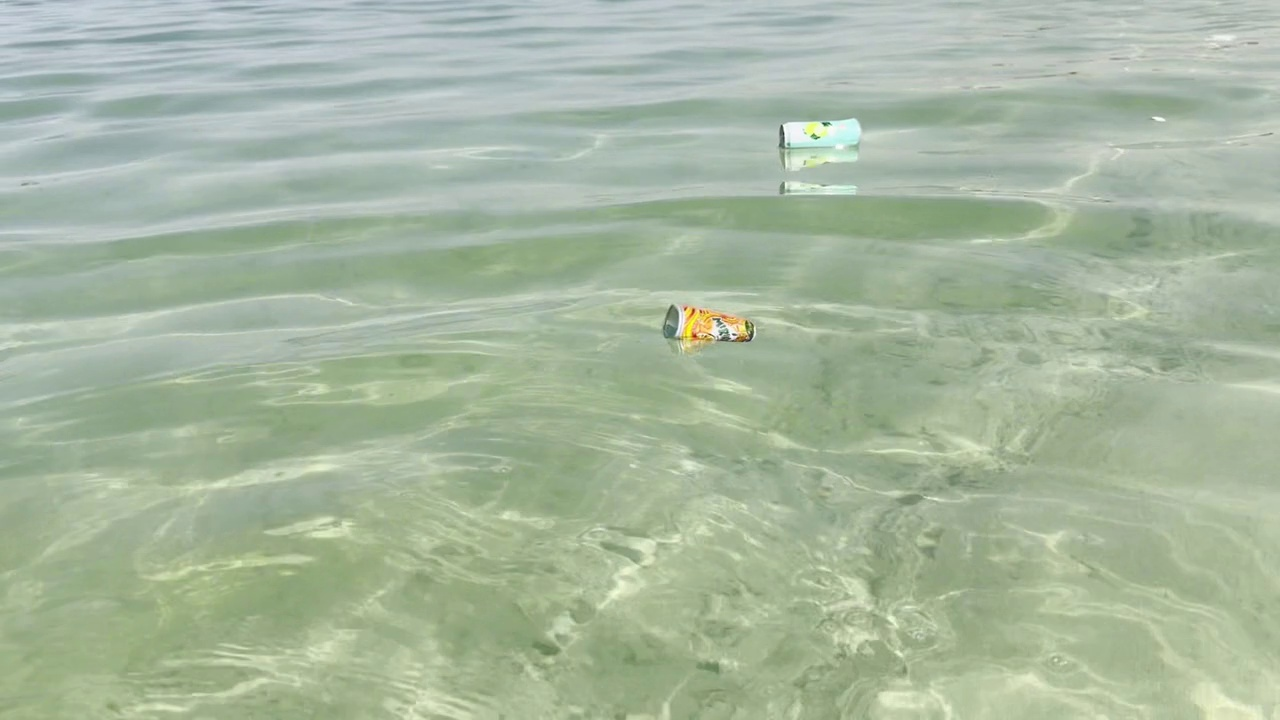debris: (657, 303, 761, 349), (773, 113, 865, 158)
